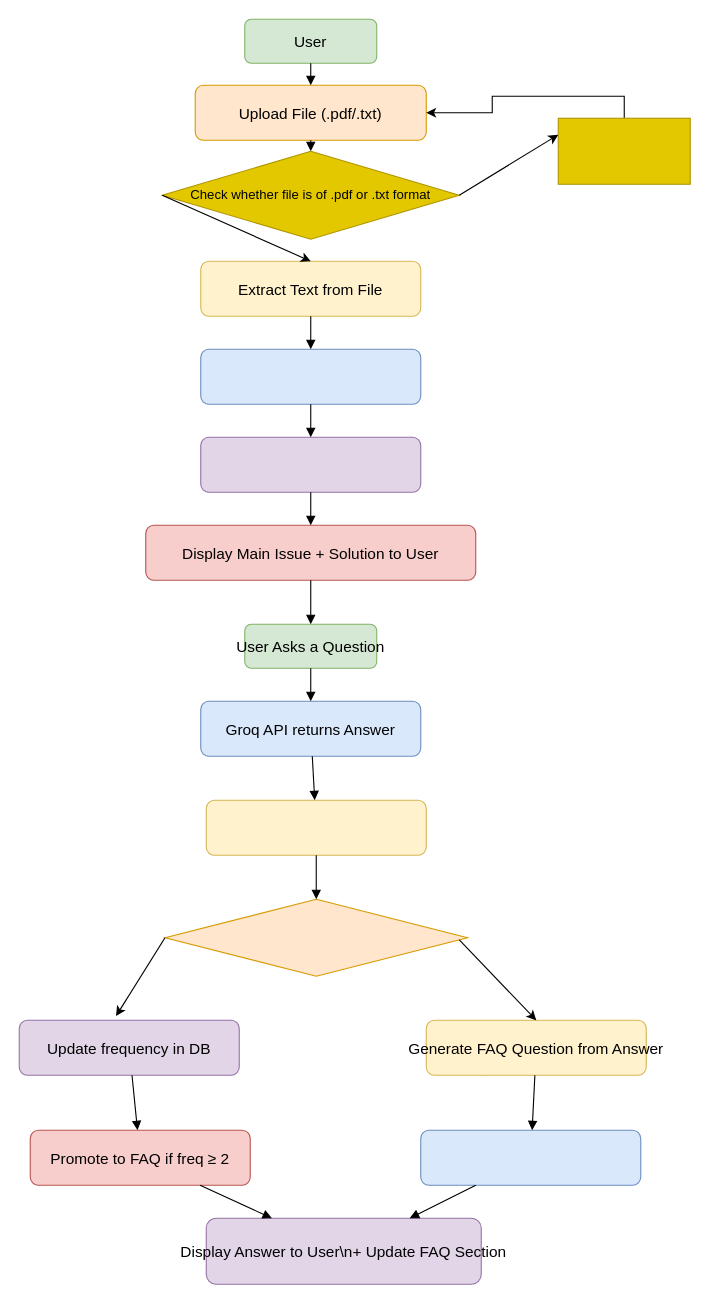
The diagram is 710 pixels wide and 1304 high, and some of its shapes have lost their labels. Each missing label, with the box of its shape:
Compare with Existing FAQs\n(cosine similarity > 0.8?): (164, 898, 468, 976)
Generate Embedding from Answer: (205, 799, 426, 855)
Get Issue + Solution: (200, 436, 421, 492)
Insert New FAQ into DB: (420, 1129, 641, 1185)
Send Text to Groq API: (200, 348, 421, 404)
unsupported file fomat: (557, 117, 690, 184)
